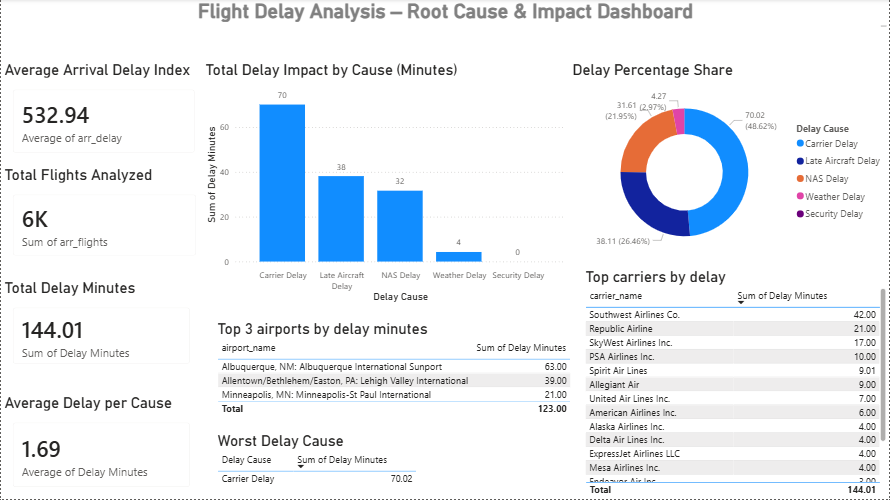

The dashboard page shown, as its layout file describes it:
{"tool":"powerbi","page":{"name":"Page 1","canvas":[1280,720],"ordinal":0},"visuals":[{"type":"cardVisual","title":"Average Arrival Delay Index","fields":{"Data":["Avg(dataset csv (2).arr_delay)"]},"box":[0,89.3,296.6,149.8],"z":0},{"type":"cardVisual","title":"Total Flights Analyzed","fields":{"Data":["Sum(dataset csv (2).arr_flights)"]},"box":[0,240.5,298.1,146.9],"z":1000},{"type":"clusteredColumnChart","title":"Total Delay Impact by Cause (Minutes)","fields":{"Category":["dataset csv (2).Delay Cause"],"Y":["Sum(dataset csv (2).Delay Minutes)"]},"box":[289.4,89.3,528.5,352.8],"z":2000},{"type":"cardVisual","title":"Total Delay Minutes","fields":{"Data":["Sum(dataset csv (2).Delay Minutes)"]},"box":[0,403.2,289.4,139.7],"z":3000},{"type":"tableEx","title":"Worst Delay Cause","fields":{"Values":["dataset csv (2).Delay Cause","Sum(dataset csv (2).Delay Minutes)"]},"box":[306.7,623.5,296.6,96.5],"z":4000},{"type":"cardVisual","title":"Average Delay per Cause","fields":{"Data":["Avg(dataset csv (2).Delay Minutes)"]},"box":[0,568.8,289.4,151.2],"z":5000},{"type":"donutChart","title":"Delay Percentage Share","fields":{"Category":["dataset csv (2).Delay Cause"],"Y":["Sum(dataset csv (2).Delay Minutes)"]},"box":[817.9,89.3,462.2,296.6],"z":6000},{"type":"tableEx","title":"Top 3 airports by delay minutes","fields":{"Values":["dataset csv (2).airport_name","Sum(dataset csv (2).Delay Minutes)"]},"box":[306.7,462.2,518.4,161.3],"z":7000},{"type":"tableEx","title":"Top carriers by delay","fields":{"Values":["dataset csv (2).carrier_name","Sum(dataset csv (2).Delay Minutes)"]},"box":[837,387,443,333],"z":8000},{"type":"textbox","title":"Flight Delay Analysis – Root Cause & Impact Dashboard","box":[0,0,1280.2,44.6],"z":8001}]}

Visuals, with their boxes in screenshot pixels (x1, y1, x2, y2), scaled from the page's 1280x720 canvas onto the 890x500 screenshot:
"Average Arrival Delay Index" cardVisual: x1=0, y1=62, x2=206, y2=166
"Total Flights Analyzed" cardVisual: x1=0, y1=167, x2=207, y2=269
"Total Delay Impact by Cause (Minutes)" clusteredColumnChart: x1=201, y1=62, x2=569, y2=307
"Total Delay Minutes" cardVisual: x1=0, y1=280, x2=201, y2=377
"Worst Delay Cause" tableEx: x1=213, y1=433, x2=419, y2=499
"Average Delay per Cause" cardVisual: x1=0, y1=395, x2=201, y2=499
"Delay Percentage Share" donutChart: x1=569, y1=62, x2=889, y2=268
"Top 3 airports by delay minutes" tableEx: x1=213, y1=321, x2=574, y2=433
"Top carriers by delay" tableEx: x1=582, y1=269, x2=889, y2=499
"Flight Delay Analysis – Root Cause & Impact Dashboard" textbox: x1=0, y1=0, x2=889, y2=31
